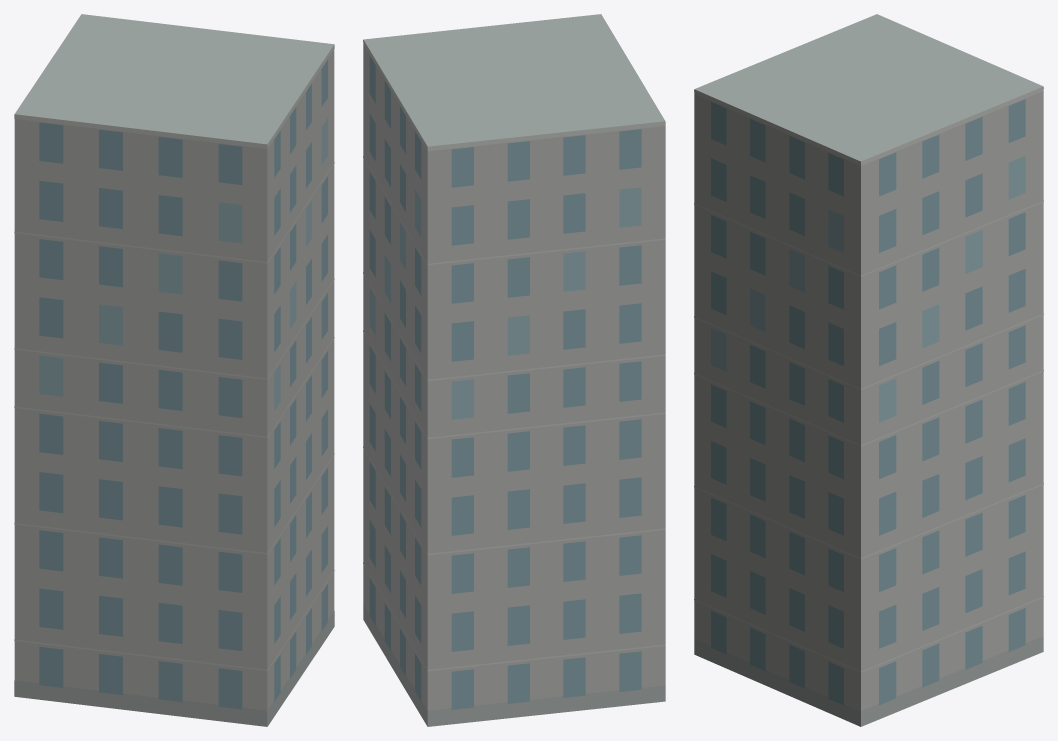
Rendered from residential-5f32d929-d101-4b22-b53b-1c0590f3d68f.glb.
The picture shows the model from 3 angles, left to right: view 1: azimuth 30°, elevation 25°; view 2: azimuth 150°, elevation 25°; view 3: azimuth 270°, elevation 25°; orthographic projection. The views are drawn at different scales.
Parts seen in each view (by area): view 1: residential-5f32d929-d101-4b22-b53b-1c0590f3d68f.tmp; view 2: residential-5f32d929-d101-4b22-b53b-1c0590f3d68f.tmp; view 3: residential-5f32d929-d101-4b22-b53b-1c0590f3d68f.tmp.
Boxes of the visible parts, x1,y1,x2,y2 form: residential-5f32d929-d101-4b22-b53b-1c0590f3d68f.tmp: [14, 14, 334, 726]; residential-5f32d929-d101-4b22-b53b-1c0590f3d68f.tmp: [363, 14, 665, 726]; residential-5f32d929-d101-4b22-b53b-1c0590f3d68f.tmp: [694, 14, 1043, 726].
Bounding box in the file's own units: 17.1 × 30.5 × 17.11.
